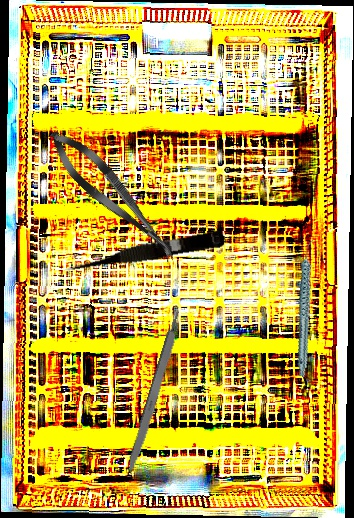Handpiece: (270, 238, 342, 378)
Micro Scissor: (40, 121, 187, 271), (61, 225, 227, 278)
Scalpel Handle: (124, 309, 186, 477)
